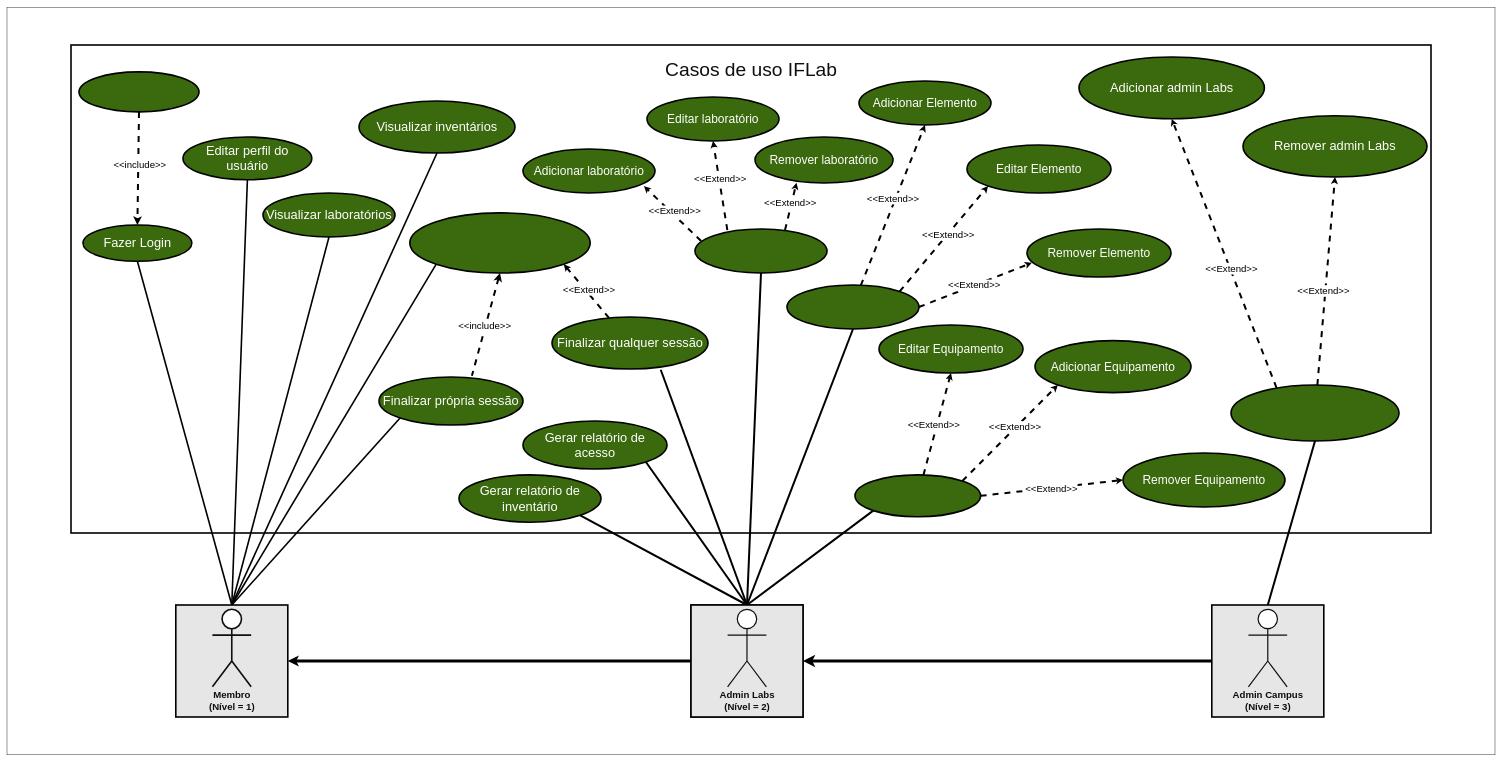
Some shapes in this 1502 by 762 pixel diagram are drawn without their labels. The box of each missing label's shape, as (x1, y1, x2, y2) in pixels:
Fazer Cadastro: (78, 71, 200, 113)
Gerenciar admin Labs: (1230, 384, 1400, 442)
Gerenciar elemento: (786, 284, 920, 330)
Gerenciar equipameno: (854, 474, 981, 517)
Gerenciar laboratório: (694, 228, 828, 274)
Marcar própria sessão em laboratório: (409, 212, 591, 274)
